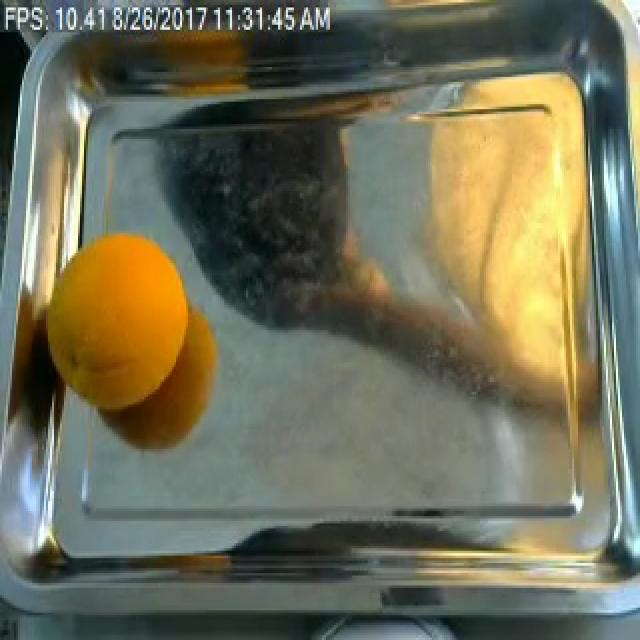Fruit: (412, 74, 592, 404), (42, 221, 194, 417)
